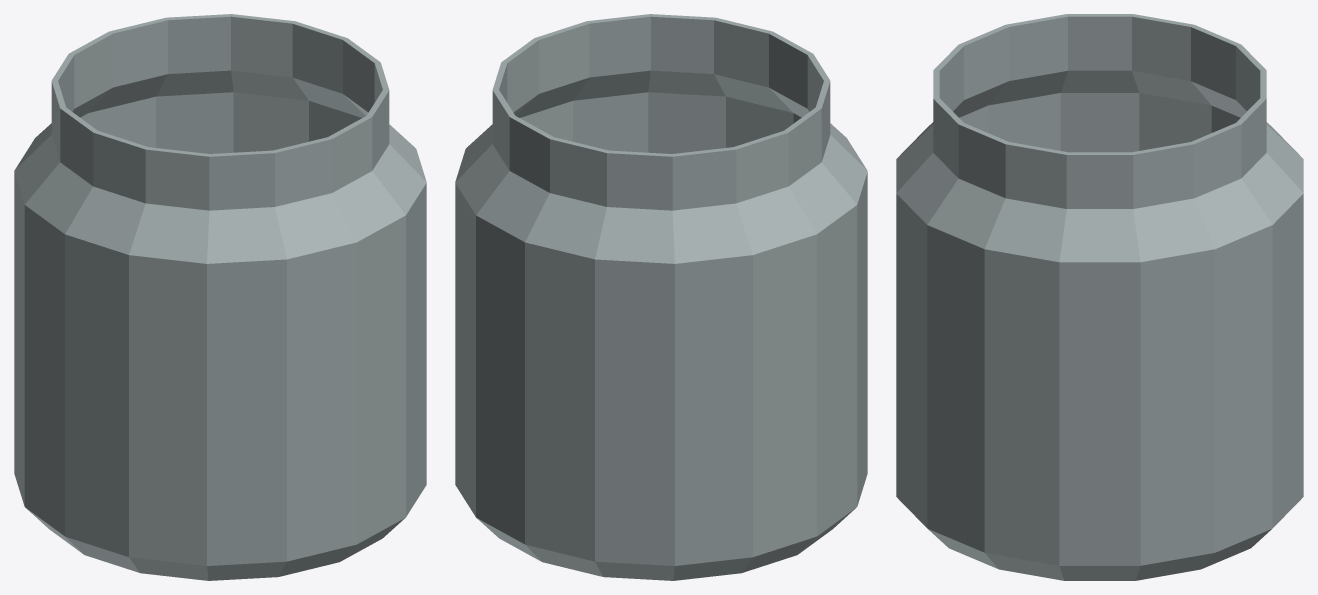
The model's file is SM_Cook_CandyJar_01.fbx.
The picture shows the model from 3 angles, left to right: view 1: azimuth 30°, elevation 25°; view 2: azimuth 150°, elevation 25°; view 3: azimuth 270°, elevation 25°; orthographic projection.
Parts seen in each view (by area): view 1: SM_Cook_CandyJar_01; view 2: SM_Cook_CandyJar_01; view 3: SM_Cook_CandyJar_01.
Part boxes in pixels (x1=…): SM_Cook_CandyJar_01: x1=14, y1=14, x2=426, y2=580; SM_Cook_CandyJar_01: x1=455, y1=14, x2=867, y2=580; SM_Cook_CandyJar_01: x1=896, y1=14, x2=1303, y2=580.
Size of the model in its own units: 0.1569 by 0.179 by 0.1569.
1 material, 1 textured.
